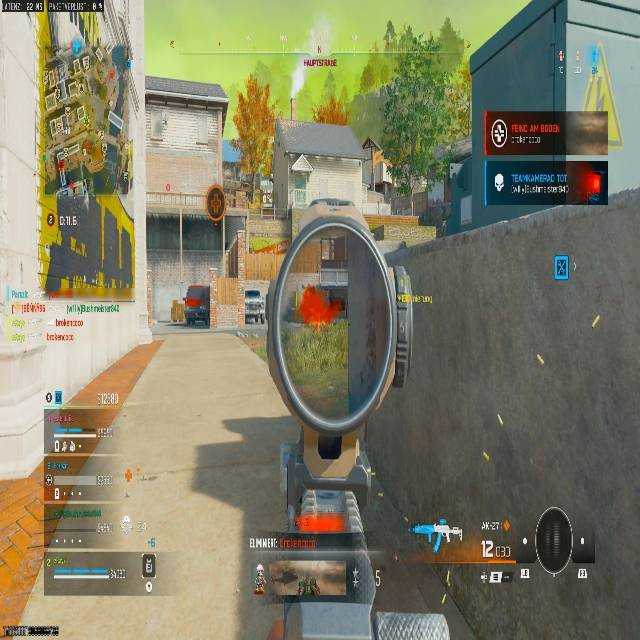player: (254, 299, 265, 324)
